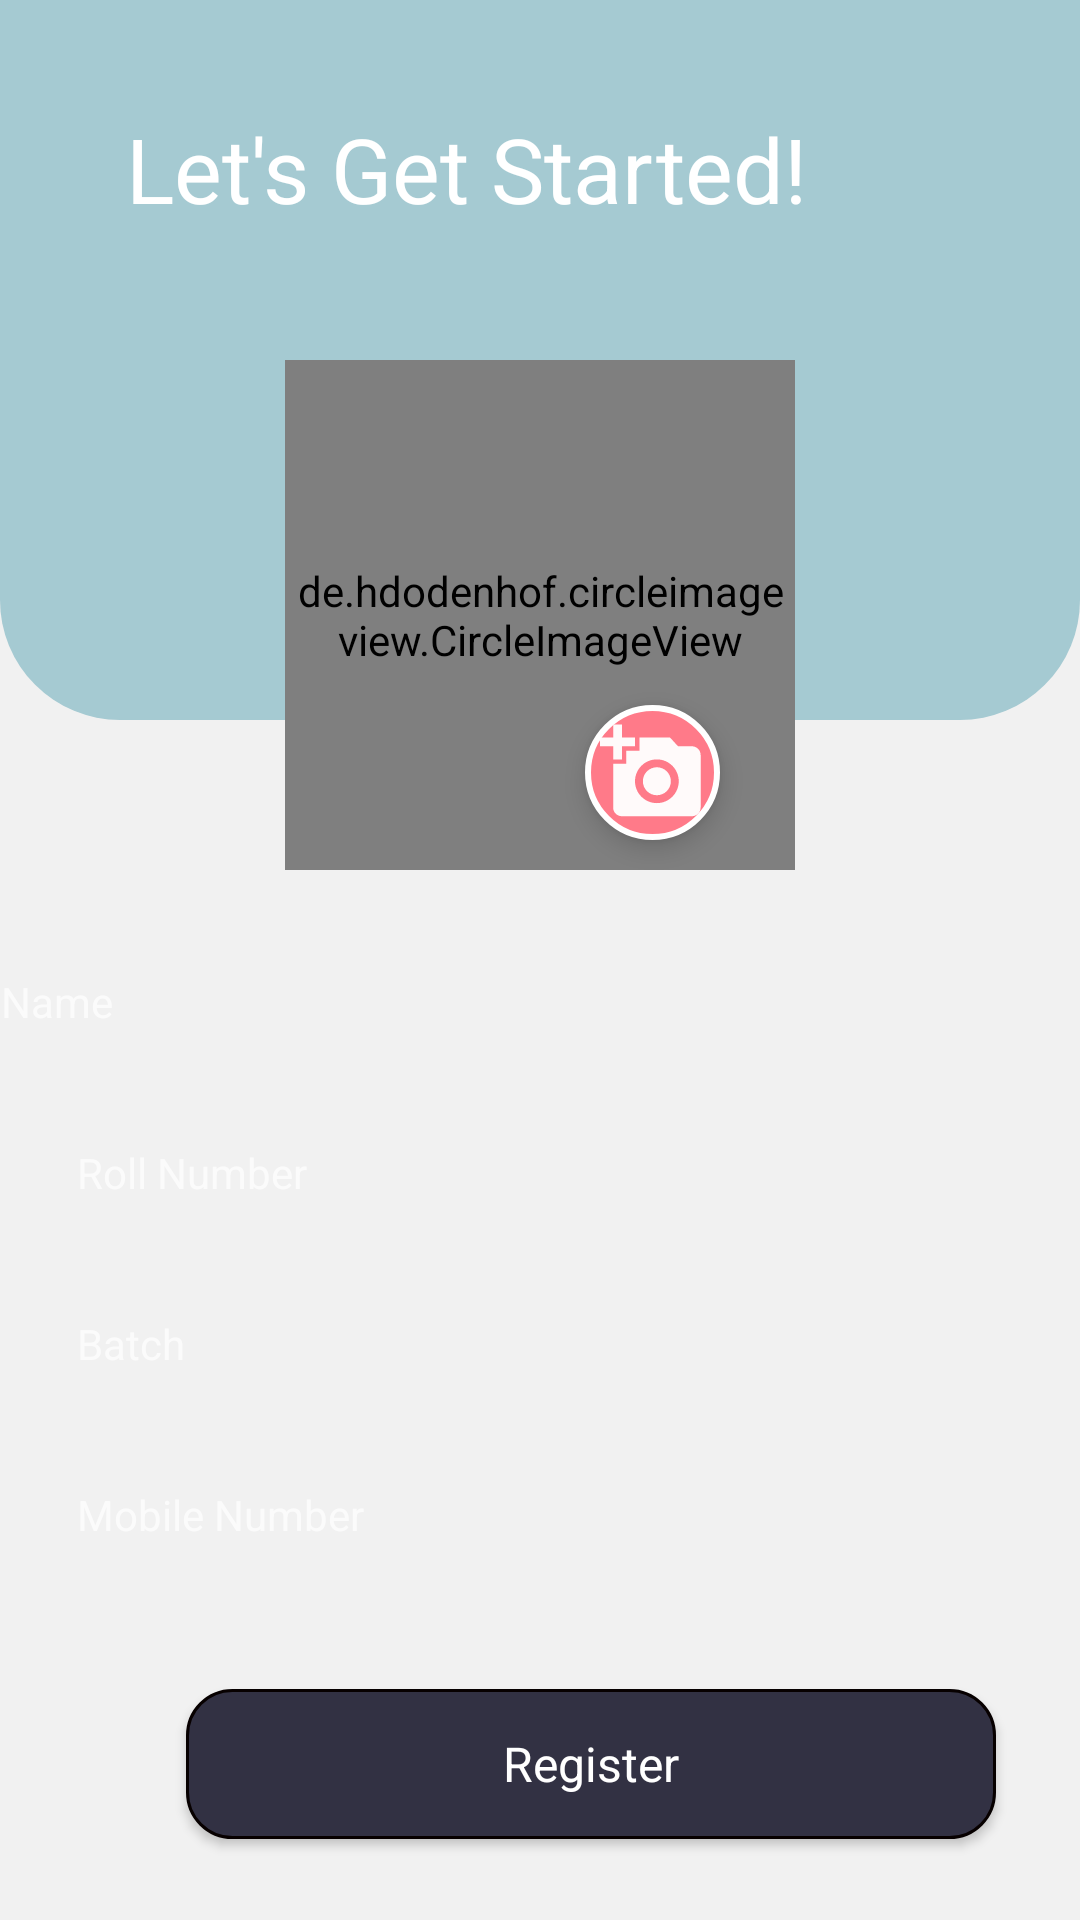

Screen size 1080×1920. Icon name, then its box in pixels as (x1, y1, x2, y2):
add photo: (585, 705, 720, 840)
